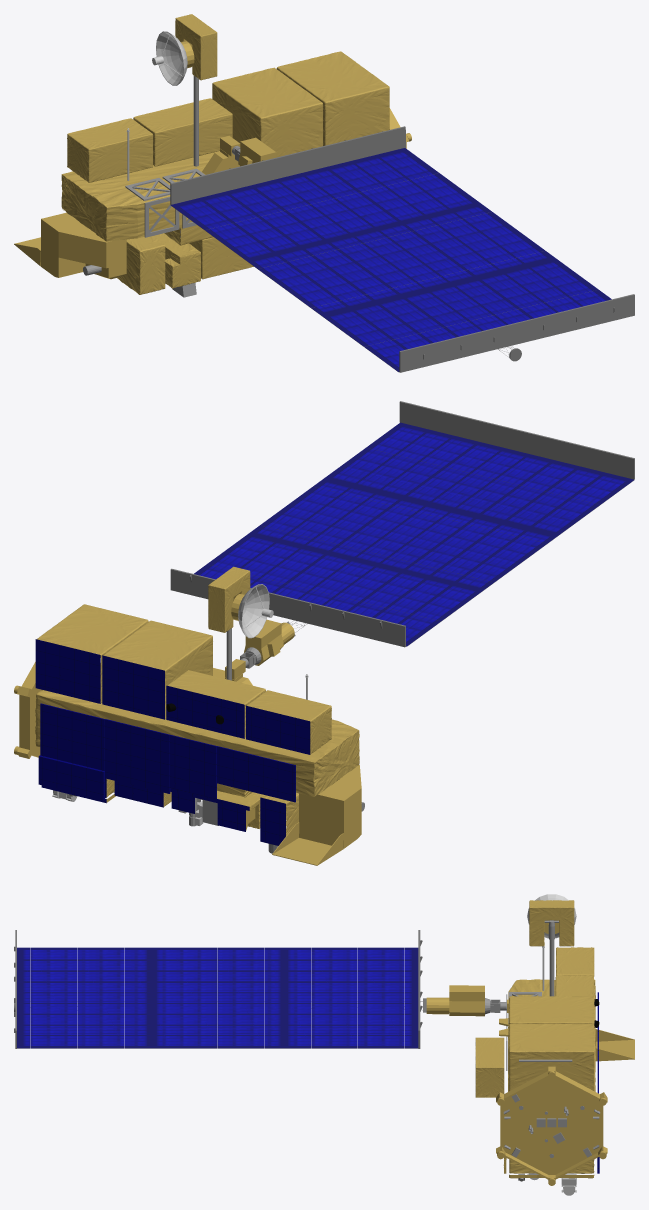
Rendered from terra_repaired.glb.
3 renders of one model, top to bottom at view 1: azimuth 30°, elevation 25°; view 2: azimuth 150°, elevation 25°; view 3: azimuth 270°, elevation 25°, orthographic. The views are drawn at different scales.
Parts seen in each view (by area): view 1: Terra_vFINAL [Layer17], Terra_vFINAL [Layer16], Terra_vFINAL [Layer1], Terra_vFINAL [Layer13], Terra_vFINAL [Layer18], Terra_vFINAL [Layer2], Terra_vFINAL [Layer11], Terra_vFINAL [Layer12], Terra_vFINAL [Layer19], Terra_vFINAL [Layer3], Terra_vFINAL [Layer9], Terra_vFINAL [Layer4] (+2 smaller); view 2: Terra_vFINAL [Layer17], Terra_vFINAL [Layer15], Terra_vFINAL [Layer16], Terra_vFINAL [Layer18], Terra_vFINAL [Layer1], Terra_vFINAL [Layer13], Terra_vFINAL [Layer2], Terra_vFINAL [Layer11], Terra_vFINAL [Layer9], Terra_vFINAL [Layer12], Terra_vFINAL [Layer20], Terra_vFINAL [Layer19]; view 3: Terra_vFINAL [Layer17], Terra_vFINAL [Layer18], Terra_vFINAL [Layer2], Terra_vFINAL [Layer13], Terra_vFINAL [Layer19], Terra_vFINAL [Layer10], Terra_vFINAL [Layer9], Terra_vFINAL [Layer16], Terra_vFINAL [Layer11], Terra_vFINAL [Layer1], Terra_vFINAL [Layer12], Terra_vFINAL [Layer21].
Part boxes in pixels (left/top/right/bottom): Terra_vFINAL [Layer17]: left=171, top=148, right=611, bottom=371; Terra_vFINAL [Layer16]: left=170, top=126, right=634, bottom=372; Terra_vFINAL [Layer1]: left=61, top=151, right=219, bottom=245; Terra_vFINAL [Layer13]: left=212, top=67, right=322, bottom=157; Terra_vFINAL [Layer18]: left=14, top=41, right=411, bottom=279; Terra_vFINAL [Layer2]: left=276, top=51, right=389, bottom=145; Terra_vFINAL [Layer11]: left=67, top=118, right=152, bottom=182; Terra_vFINAL [Layer12]: left=133, top=98, right=232, bottom=166; Terra_vFINAL [Layer19]: left=83, top=75, right=240, bottom=297; Terra_vFINAL [Layer3]: left=117, top=236, right=165, bottom=294; Terra_vFINAL [Layer9]: left=175, top=14, right=217, bottom=80; Terra_vFINAL [Layer4]: left=153, top=233, right=200, bottom=288; Terra_vFINAL [Layer17]: left=194, top=422, right=634, bottom=646; Terra_vFINAL [Layer15]: left=35, top=639, right=310, bottom=845; Terra_vFINAL [Layer16]: left=170, top=401, right=634, bottom=647; Terra_vFINAL [Layer18]: left=14, top=593, right=361, bottom=865; Terra_vFINAL [Layer1]: left=35, top=673, right=359, bottom=797; Terra_vFINAL [Layer13]: left=103, top=620, right=212, bottom=718; Terra_vFINAL [Layer2]: left=37, top=604, right=148, bottom=702; Terra_vFINAL [Layer11]: left=247, top=690, right=331, bottom=754; Terra_vFINAL [Layer9]: left=208, top=566, right=250, bottom=632; Terra_vFINAL [Layer12]: left=167, top=670, right=265, bottom=737; Terra_vFINAL [Layer20]: left=238, top=584, right=273, bottom=638; Terra_vFINAL [Layer19]: left=69, top=628, right=364, bottom=853; Terra_vFINAL [Layer17]: left=17, top=947, right=418, bottom=1048; Terra_vFINAL [Layer18]: left=426, top=920, right=634, bottom=1185; Terra_vFINAL [Layer2]: left=509, top=1024, right=594, bottom=1091; Terra_vFINAL [Layer13]: left=509, top=996, right=594, bottom=1025; Terra_vFINAL [Layer19]: left=485, top=920, right=600, bottom=1181; Terra_vFINAL [Layer10]: left=475, top=1037, right=504, bottom=1097; Terra_vFINAL [Layer9]: left=529, top=900, right=574, bottom=946; Terra_vFINAL [Layer16]: left=14, top=930, right=426, bottom=1048; Terra_vFINAL [Layer11]: left=556, top=947, right=594, bottom=995; Terra_vFINAL [Layer1]: left=508, top=979, right=595, bottom=1091; Terra_vFINAL [Layer12]: left=555, top=975, right=593, bottom=996; Terra_vFINAL [Layer21]: left=527, top=946, right=576, bottom=1195.
Bounding box in the file's own units: 13622 × 10277 × 26054.
Materials: 11 (2 with a texture image).
